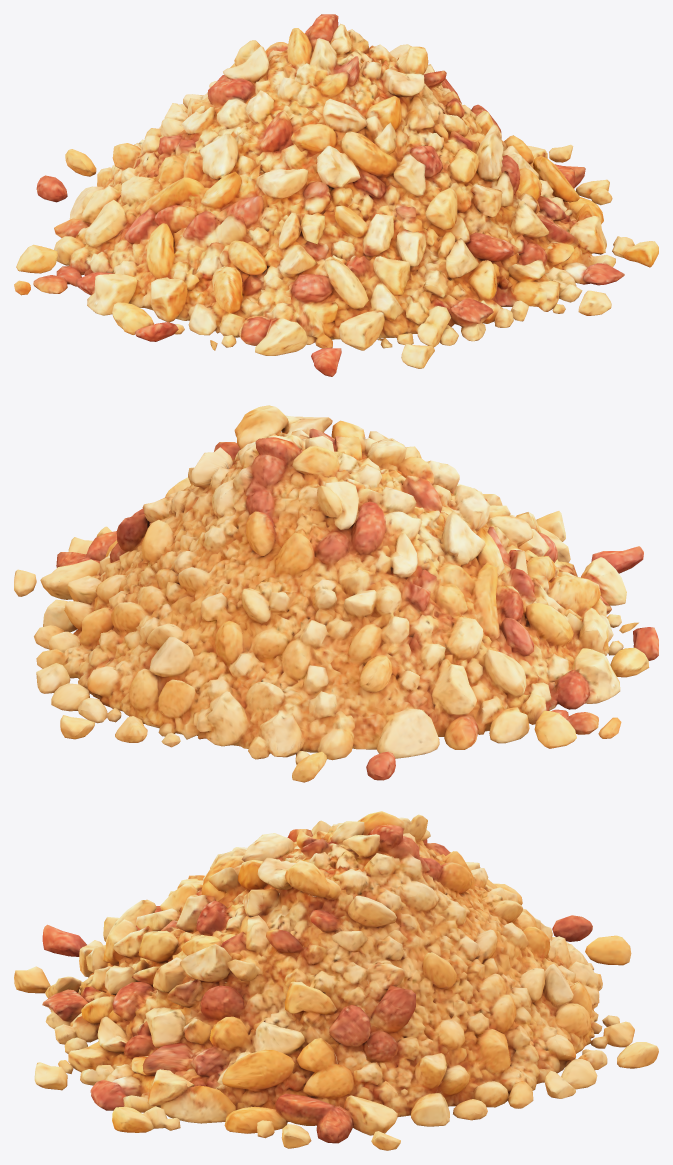
File: lod_basic_shaded.fbx
3 renders of one model, top to bottom at view 1: azimuth 30°, elevation 25°; view 2: azimuth 150°, elevation 25°; view 3: azimuth 270°, elevation 25°, orthographic. The views are drawn at different scales.
Parts seen in each view (by area): view 1: model_LOD0; view 2: model_LOD0; view 3: model_LOD0.
Part boxes in pixels (x1=…): model_LOD0: x1=14, y1=14, x2=658, y2=376; model_LOD0: x1=14, y1=405, x2=658, y2=782; model_LOD0: x1=14, y1=811, x2=658, y2=1150.
Size of what is drawn, in the model's own units: 190 by 65.9 by 184.
